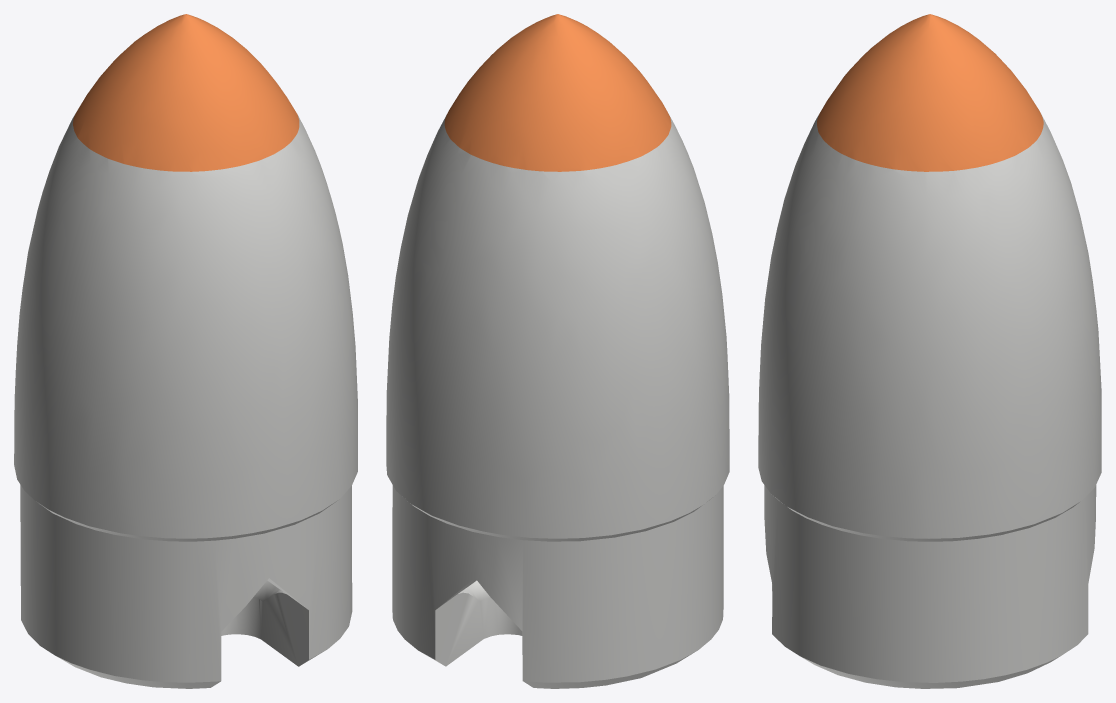
File: NoseCone.fbx
The picture shows the model from 3 angles, left to right: view 1: azimuth 30°, elevation 25°; view 2: azimuth 150°, elevation 25°; view 3: azimuth 270°, elevation 25°; orthographic projection.
Visible parts, largest first — view 1: NoseCone; view 2: NoseCone; view 3: NoseCone.
Boxes of the visible parts, x1,y1,x2,y2 form: NoseCone: (14, 14, 357, 688); NoseCone: (386, 14, 729, 688); NoseCone: (758, 14, 1101, 688).
Size of the model in its own units: 0.034 by 0.067 by 0.034.
